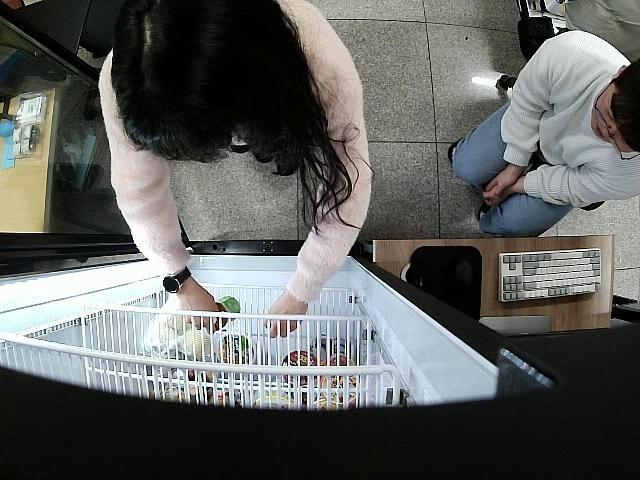19_17cha: (212, 296, 240, 332)
